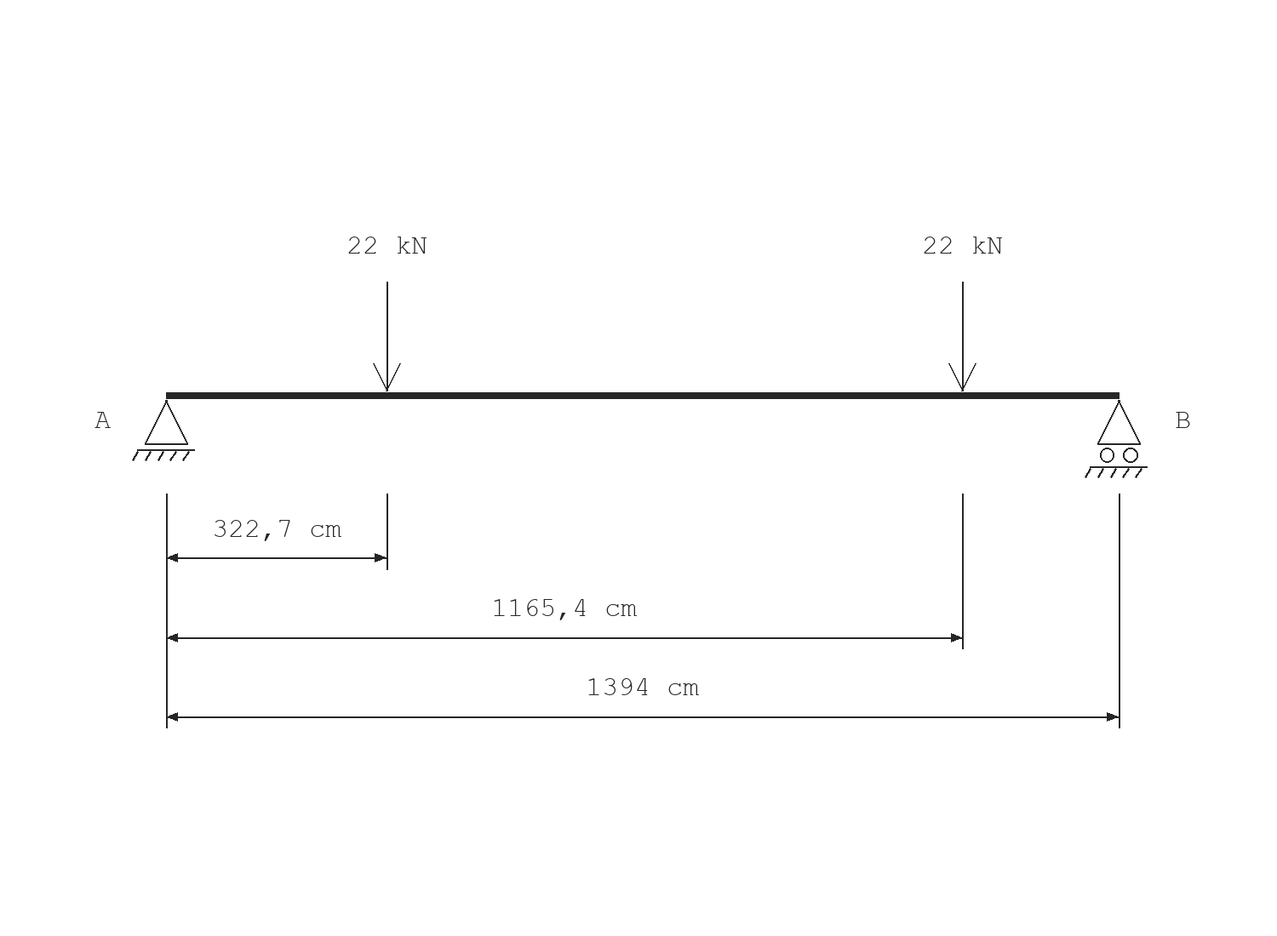pin_support: (132, 400, 195, 461)
point_load: (373, 282, 401, 391), (948, 282, 976, 391)
roller_support: (1085, 400, 1148, 478)
